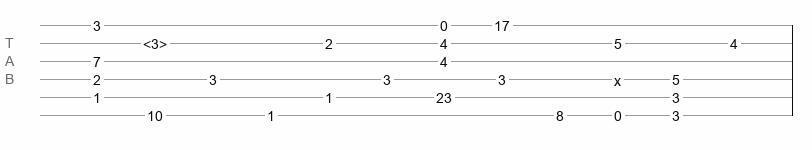0: (440, 18, 448, 28), (614, 108, 622, 118)
1: (93, 90, 101, 100), (267, 108, 275, 118), (325, 90, 333, 100)
10: (147, 108, 163, 118)
17: (494, 18, 510, 28)
2: (93, 72, 101, 82), (325, 36, 333, 46)
23: (436, 90, 452, 100)
3: (93, 18, 101, 28), (209, 72, 217, 82), (383, 72, 391, 82), (498, 72, 506, 82), (672, 90, 680, 100), (672, 108, 680, 118)
4: (440, 54, 448, 64), (440, 36, 448, 46), (730, 36, 738, 46)
5: (614, 36, 622, 46), (672, 72, 680, 82)
7: (93, 54, 101, 64)
8: (556, 108, 564, 118)
harmonic: (143, 36, 167, 46)
x: (614, 73, 621, 81)
